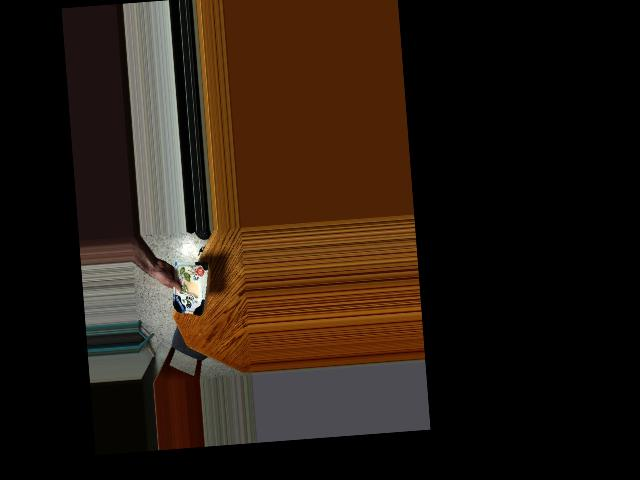cheese: (160, 256, 215, 317)
